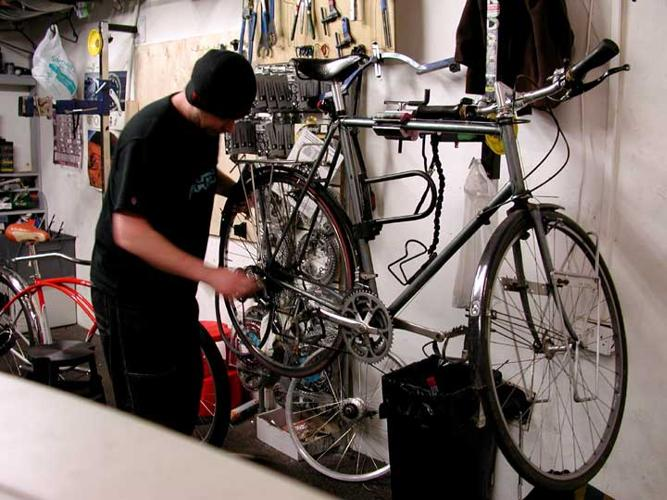person: (81, 45, 266, 438)
